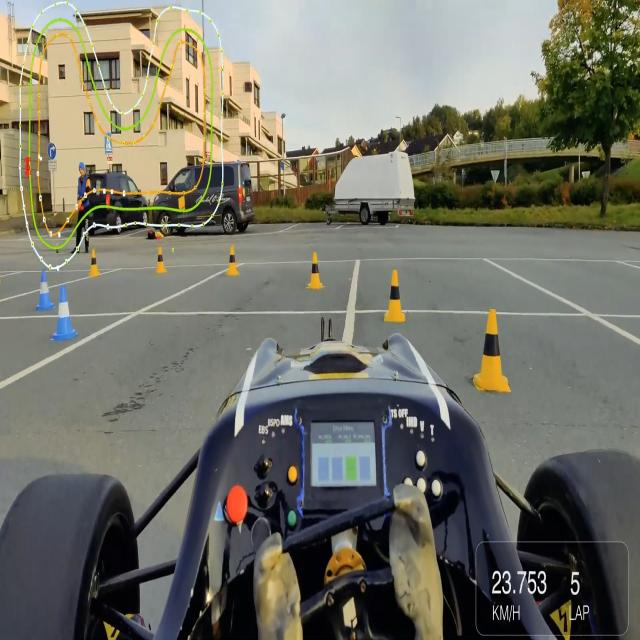blue_cone: (50, 283, 80, 346), (35, 266, 55, 313)
yellow_cone: (468, 301, 515, 397), (380, 267, 409, 325), (304, 251, 326, 294), (224, 245, 241, 280), (154, 245, 169, 278), (87, 247, 101, 278)
